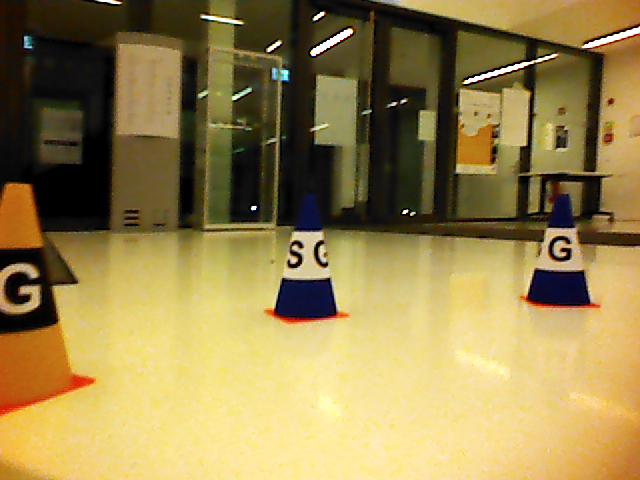bluecone: (276, 192, 340, 319), (530, 193, 592, 306)
yellowcone: (2, 180, 75, 406)
